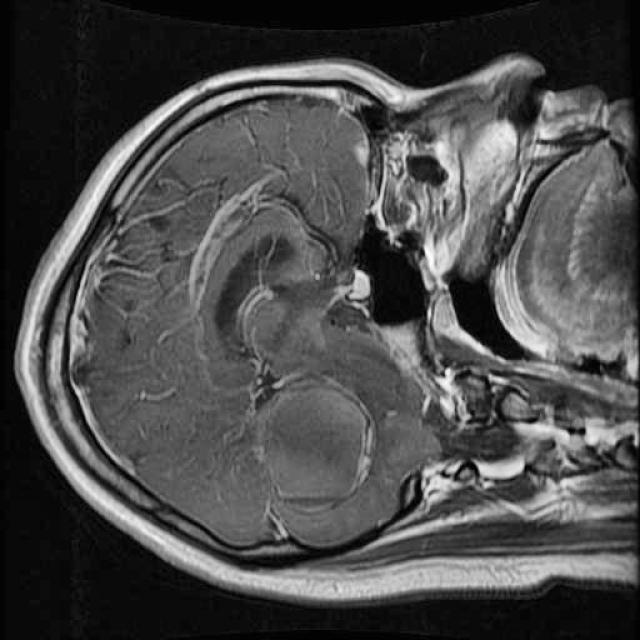Tumor: (244, 358, 384, 524)
